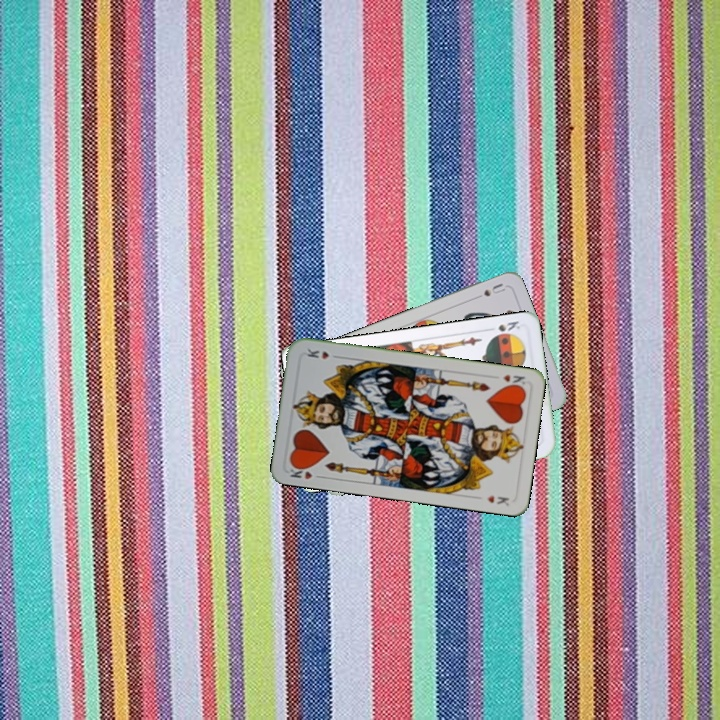HK: (286, 461, 325, 482), (499, 370, 528, 387)
SK: (483, 317, 523, 334)
SU: (469, 279, 508, 302)
